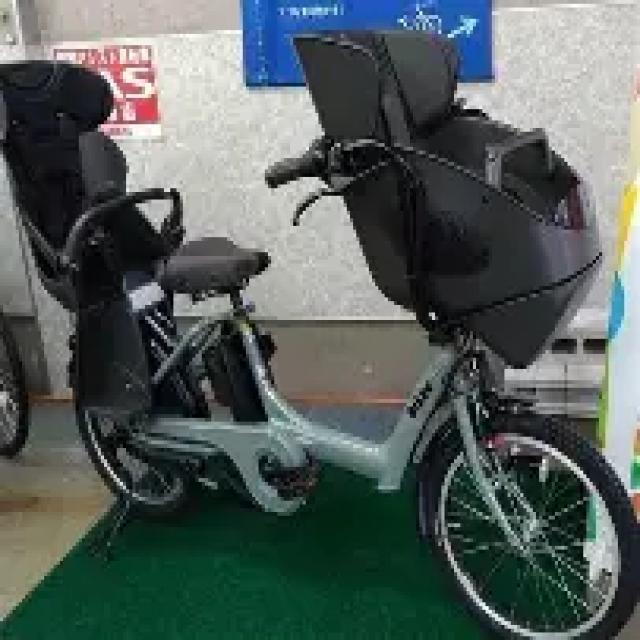battery: (206, 330, 271, 419)
childseat: (292, 26, 607, 368), (0, 56, 186, 406)
